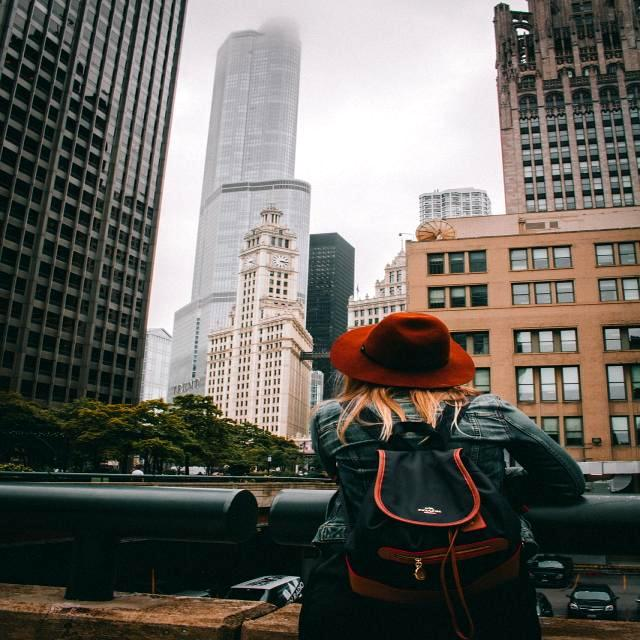no_hard_hat: (330, 313, 475, 391)
person: (299, 324, 583, 640)
